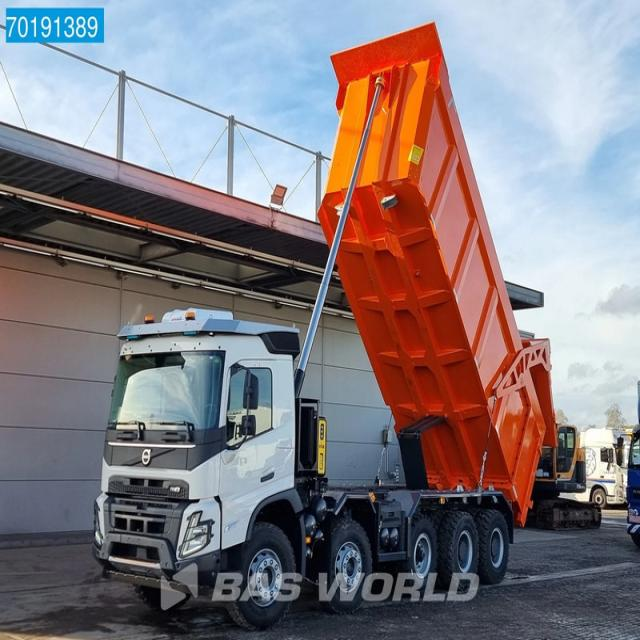dump_truck: (74, 22, 554, 588)
